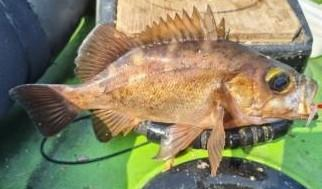fish: (10, 6, 316, 174)
